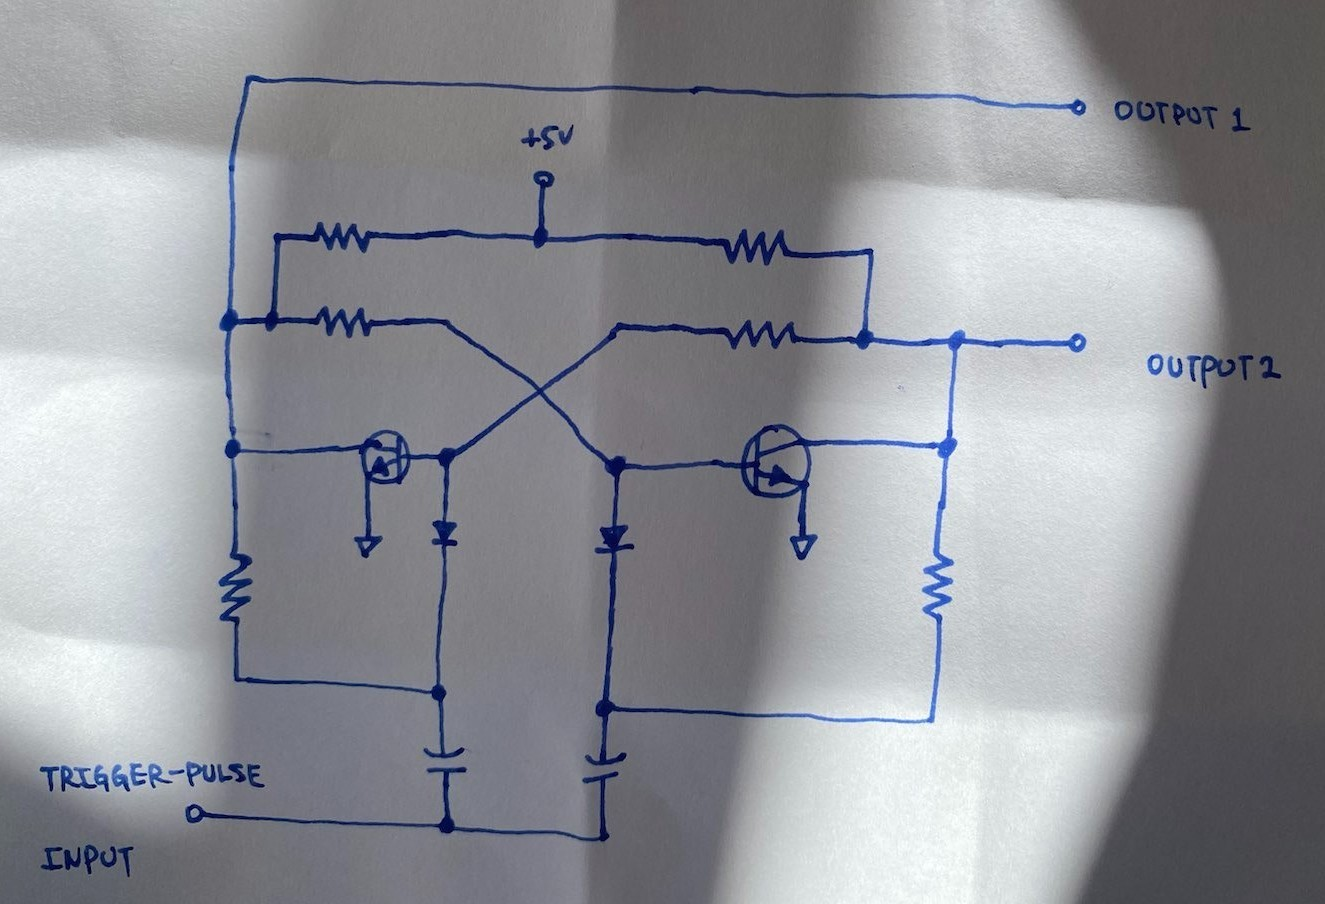capacitor.unpolarized: (414, 738, 479, 781), (574, 746, 631, 787)
diode: (589, 517, 647, 561), (420, 511, 468, 554)
gnd: (345, 518, 386, 570), (784, 517, 824, 568)
junction: (516, 370, 563, 409), (592, 444, 635, 484), (924, 427, 968, 465), (934, 322, 976, 359), (845, 320, 882, 360), (420, 670, 457, 709), (426, 438, 465, 474), (210, 303, 246, 339), (600, 311, 642, 341), (522, 219, 556, 256), (214, 430, 249, 466), (912, 699, 947, 733), (589, 687, 625, 720), (851, 231, 885, 265), (231, 62, 270, 92), (430, 808, 461, 845), (584, 821, 620, 852), (255, 304, 284, 337), (430, 307, 462, 335), (222, 664, 254, 691), (268, 222, 288, 249)
resistor: (305, 216, 387, 259), (215, 548, 255, 632), (721, 315, 801, 354), (918, 546, 958, 625), (716, 228, 793, 268), (310, 303, 380, 339)
terminal: (1045, 324, 1111, 356), (528, 162, 561, 207), (1049, 92, 1097, 121), (178, 798, 225, 828)
text: (34, 757, 268, 793), (1110, 92, 1258, 139), (1145, 342, 1287, 389), (38, 842, 141, 880), (519, 119, 582, 152)
transistor: (735, 420, 813, 501), (355, 422, 418, 488)
